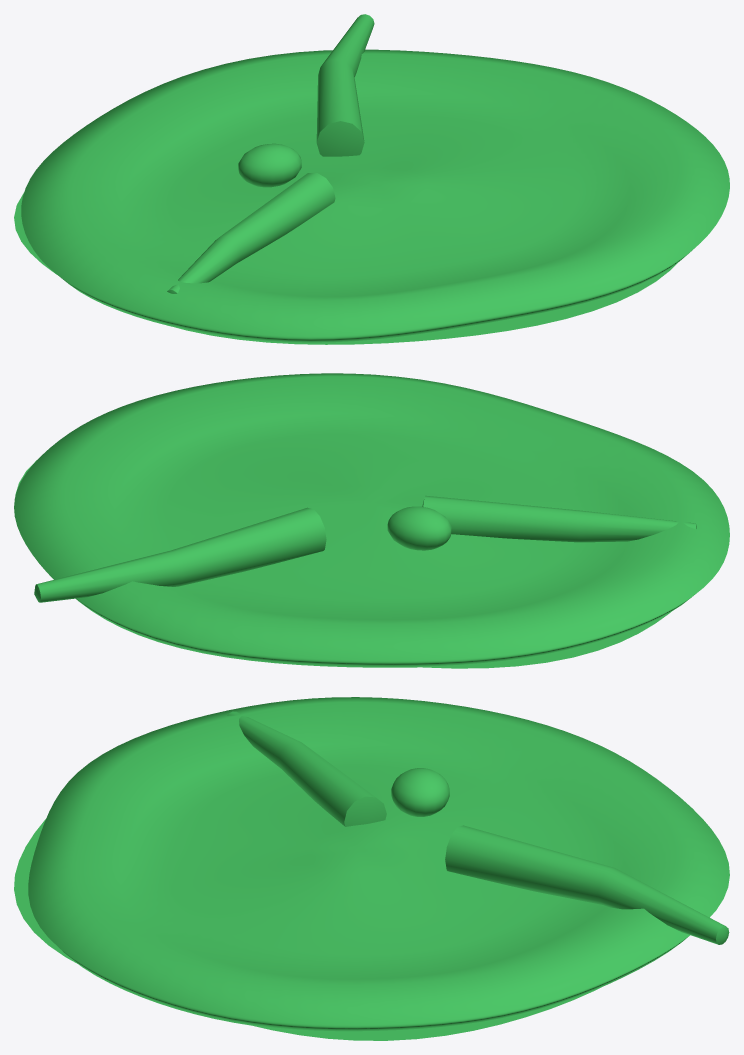
Rendered from basic_tile.glb.
3 views of the same model, one above another, from view 1: azimuth 30°, elevation 25°; view 2: azimuth 150°, elevation 25°; view 3: azimuth 270°, elevation 25° (orthographic). The views are drawn at different scales.
Visible parts, largest first — view 1: basic_tile; view 2: basic_tile; view 3: basic_tile.
Part boxes in pixels (x1,y1,x2,y2): basic_tile: [14, 14, 729, 344]; basic_tile: [14, 373, 729, 668]; basic_tile: [14, 697, 729, 1040].
Size of the model in its own units: 1.49 by 0.1343 by 1.36.
